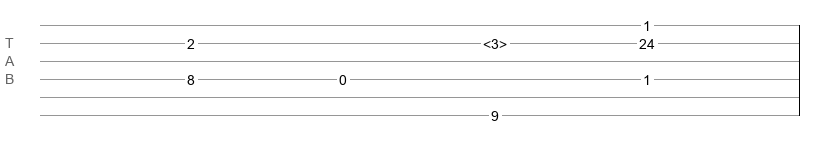0: (339, 72, 347, 82)
1: (643, 18, 651, 28), (643, 72, 651, 82)
2: (187, 36, 195, 46)
24: (639, 36, 655, 46)
8: (187, 72, 195, 82)
9: (491, 108, 499, 118)
harmonic: (483, 36, 507, 46)
